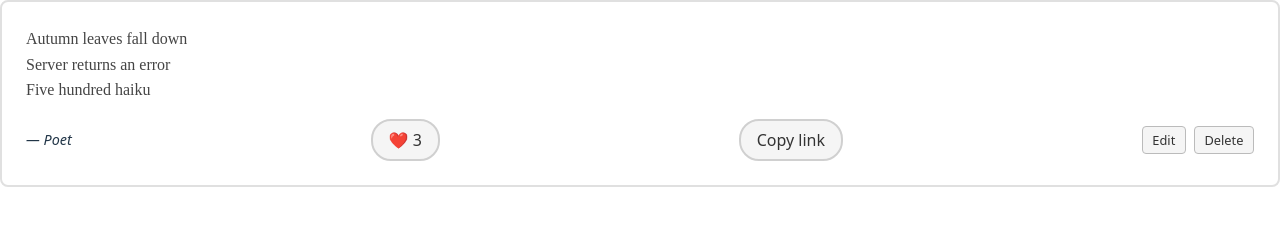
Test: HaikuCard › owner actions › clicking edit enters edit mode with textarea
Click the button "Edit": (1164, 140) [1142,126,1186,154]
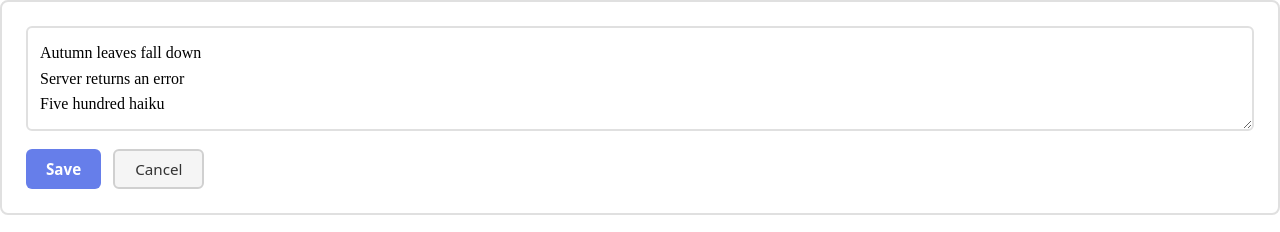
Expected: the text box is shown, [26,26,1254,131]
Expected: the button "Save" is shown, [26,149,101,189]
Expected: the button "Cancel" is shown, [113,149,204,189]
